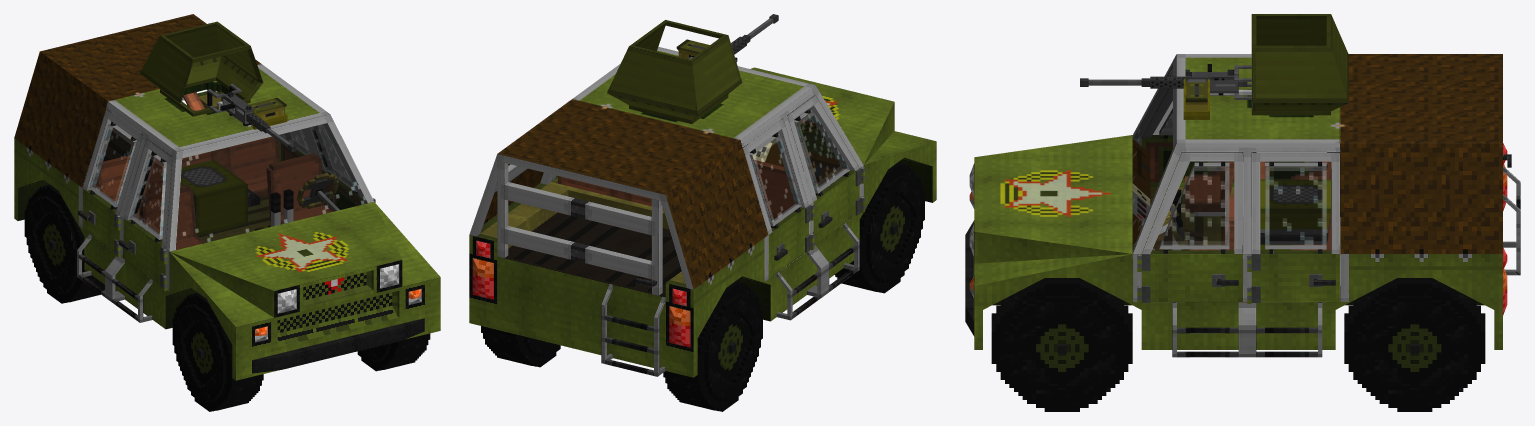
The model's file is jeep.glb.
3 renders of one model, left to right at view 1: azimuth 30°, elevation 25°; view 2: azimuth 150°, elevation 25°; view 3: azimuth 270°, elevation 25°, orthographic. The views are drawn at different scales.
Visible parts, largest first — view 1: M UAZ Body, TurretBody, ammo box; view 2: M UAZ Body, TurretBody; view 3: M UAZ Body, TurretBody, ammo box.
Boxes of the visible parts, x1,y1,x2,y2 form: M UAZ Body: (14,14,440,411); TurretBody: (207,83,296,152); ammo box: (249,97,286,119); M UAZ Body: (469,20,936,411); TurretBody: (688,14,778,61); M UAZ Body: (965,14,1520,411); TurretBody: (1080,64,1251,99); ammo box: (1185,82,1207,111).
Size of the model in its own units: 1.43 by 1.61 by 2.5.
8 materials, 8 textured.
